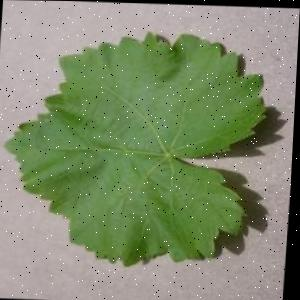Folha: (0, 26, 274, 270)
